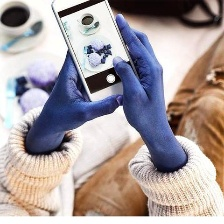phone: (44, 0, 148, 115)
